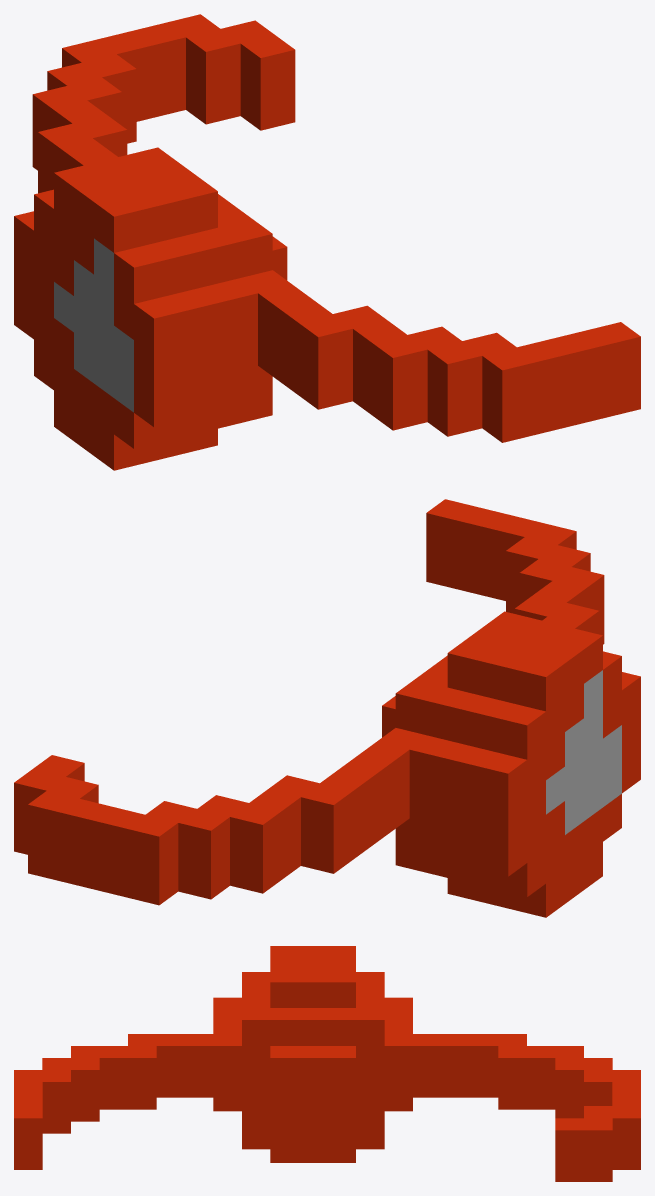
The model's file is main.obj.
The picture shows the model from 3 angles, top to bottom: view 1: azimuth 30°, elevation 25°; view 2: azimuth 150°, elevation 25°; view 3: azimuth 270°, elevation 25°; orthographic projection. The views are drawn at different scales.
Bounding box in the file's own units: 11 × 7 × 22.
Materials: 1 (1 with a texture image).
